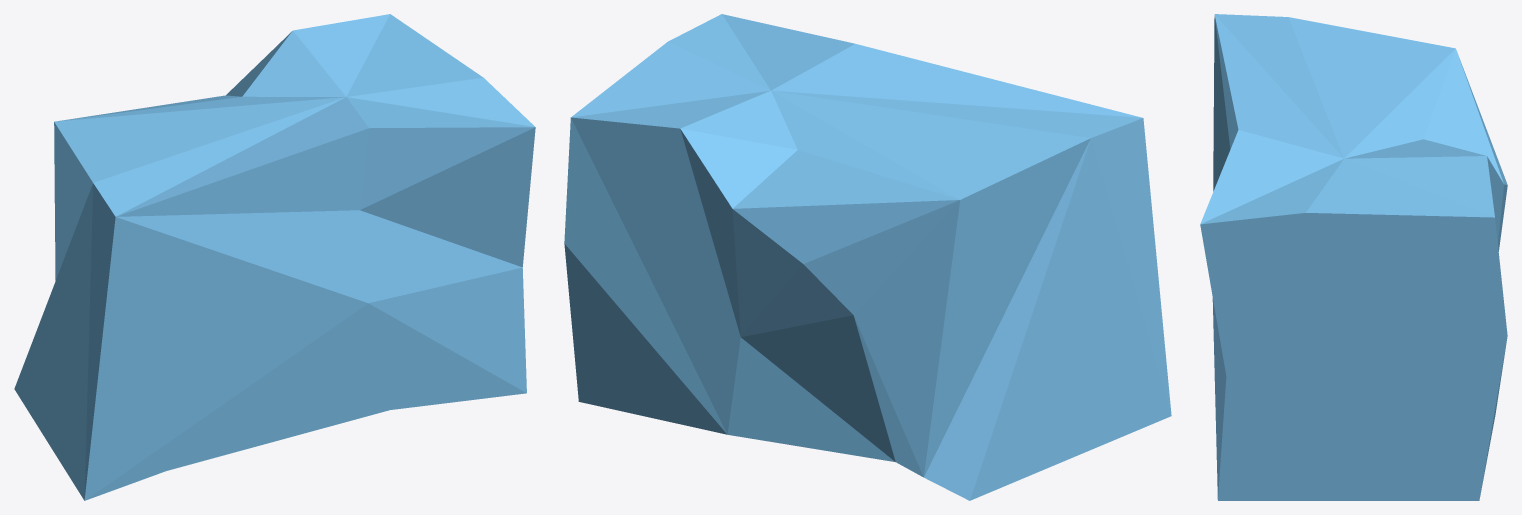
File: SP_Rock04.fbx
The picture shows the model from 3 angles, left to right: view 1: azimuth 30°, elevation 25°; view 2: azimuth 150°, elevation 25°; view 3: azimuth 270°, elevation 25°; orthographic projection. The views are drawn at different scales.
Visible parts, largest first — view 1: SP_Rock04; view 2: SP_Rock04; view 3: SP_Rock04.
Part boxes in pixels (x1,y1,x2,y2): SP_Rock04: (14,14,535,500); SP_Rock04: (564,14,1171,500); SP_Rock04: (1200,14,1507,500).
Size of the model in its own units: 135 by 85.63 by 80.09.
1 material, 1 textured.
